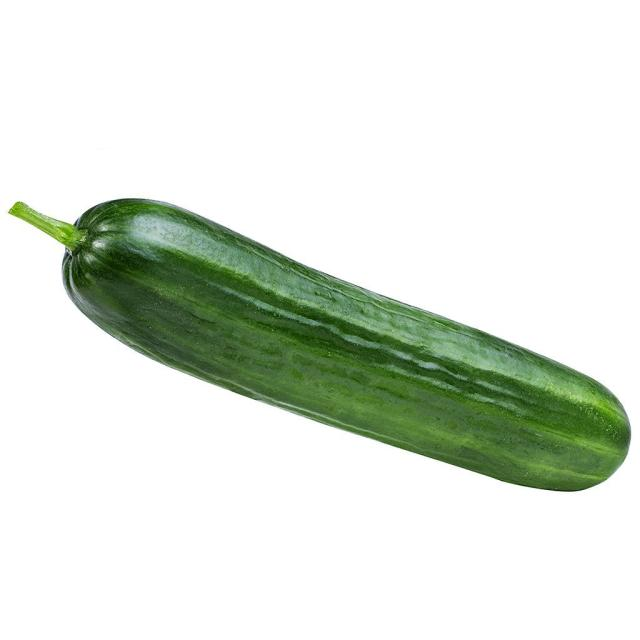Pickle: (9, 199, 630, 491)
